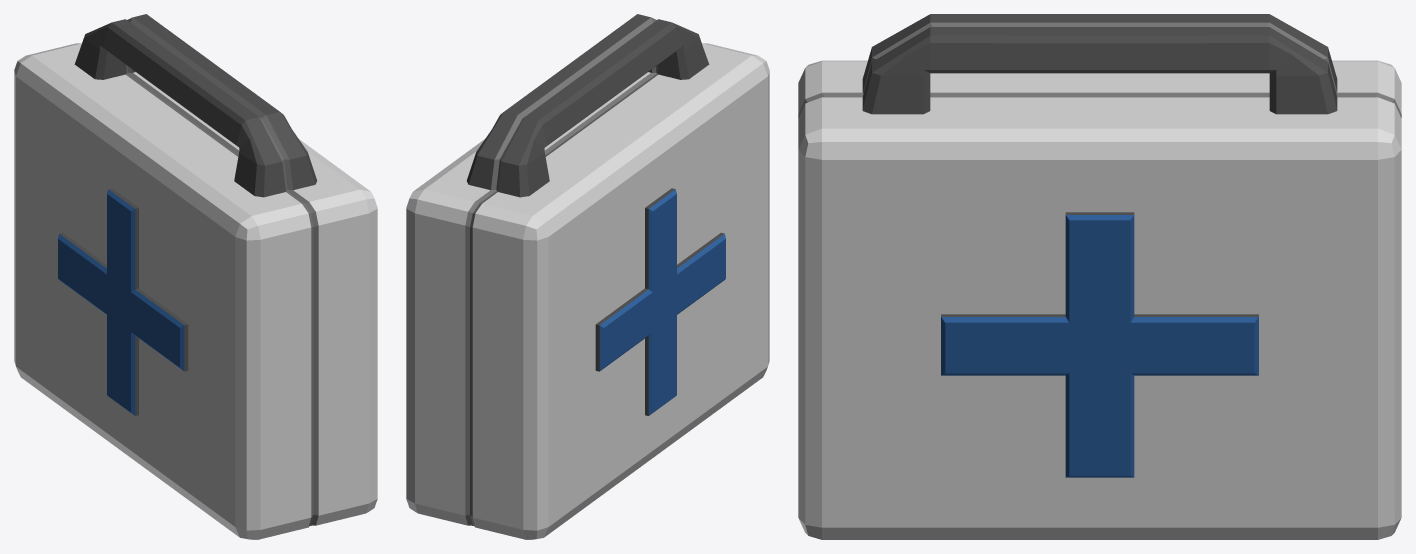
Rendered from medkit.gltf.
The picture shows the model from 3 angles, left to right: view 1: azimuth 30°, elevation 25°; view 2: azimuth 150°, elevation 25°; view 3: azimuth 270°, elevation 25°; orthographic projection. The views are drawn at different scales.
Visible parts, largest first — view 1: Cube.001; view 2: Cube.001; view 3: Cube.001.
Part boxes in pixels (x1,y1,x2,y2): Cube.001: (14, 14, 377, 539); Cube.001: (406, 14, 769, 539); Cube.001: (798, 14, 1401, 539).
Size of the model in its own units: 0.1764 by 0.4153 by 0.4722.
